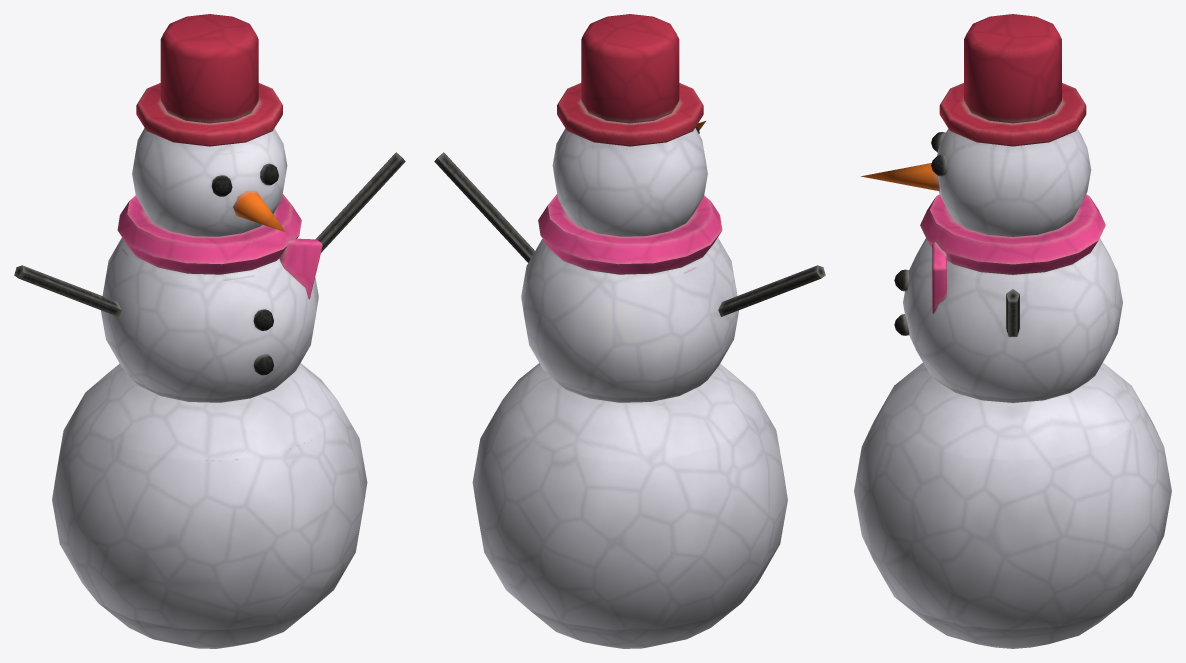
The model's file is sf_obstacle_snowman.glb.
3 renders of one model, left to right at view 1: azimuth 30°, elevation 25°; view 2: azimuth 150°, elevation 25°; view 3: azimuth 270°, elevation 25°, orthographic.
Visible parts, largest first — view 1: sf_obstacle_snowman; view 2: sf_obstacle_snowman; view 3: sf_obstacle_snowman.
Boxes of the visible parts, x1,y1,x2,y2 form: sf_obstacle_snowman: (14,14,405,648); sf_obstacle_snowman: (434,14,825,648); sf_obstacle_snowman: (854,14,1171,648).
Bounding box in the file's own units: 1.83 × 2.72 × 1.3.
5 materials, 5 textured.
